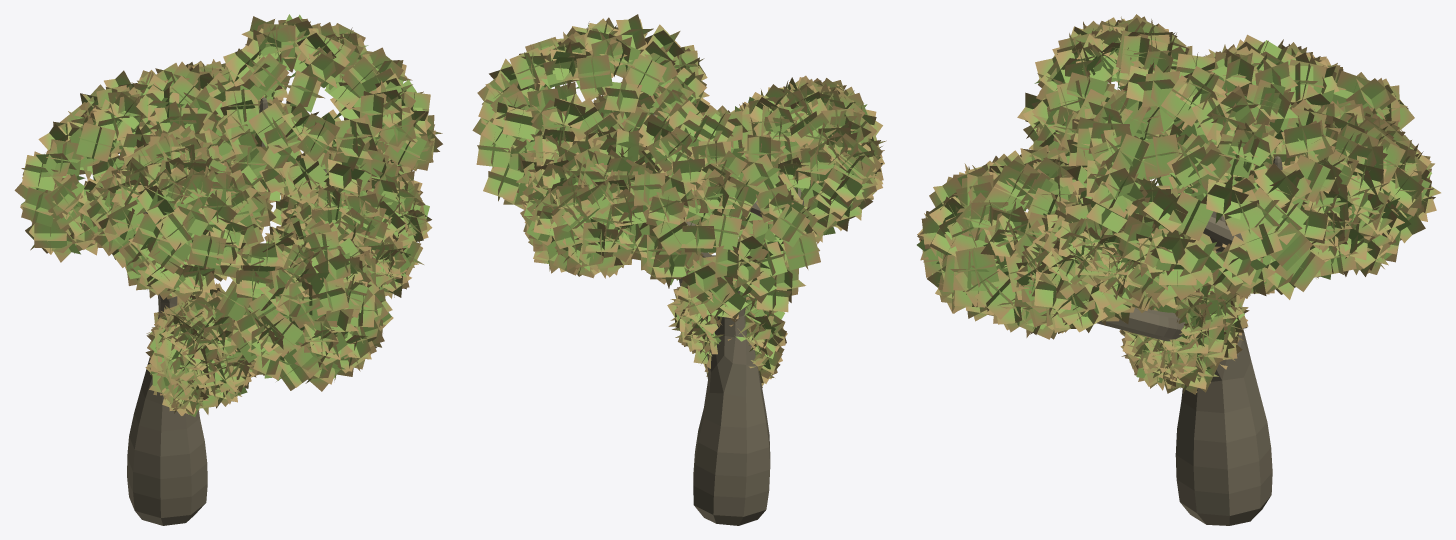
The model's file is arvore4 (6).fbx.
3 renders of one model, left to right at view 1: azimuth 30°, elevation 25°; view 2: azimuth 150°, elevation 25°; view 3: azimuth 270°, elevation 25°, orthographic. The views are drawn at different scales.
Visible parts, largest first — view 1: tronco; view 2: tronco; view 3: tronco.
Part boxes in pixels (bbox=[...]): tronco: bbox=[14, 14, 442, 525]; tronco: bbox=[472, 14, 886, 525]; tronco: bbox=[917, 14, 1440, 525].
Size of the model in its own units: 992 by 889 by 833.
1 material, 1 textured.
